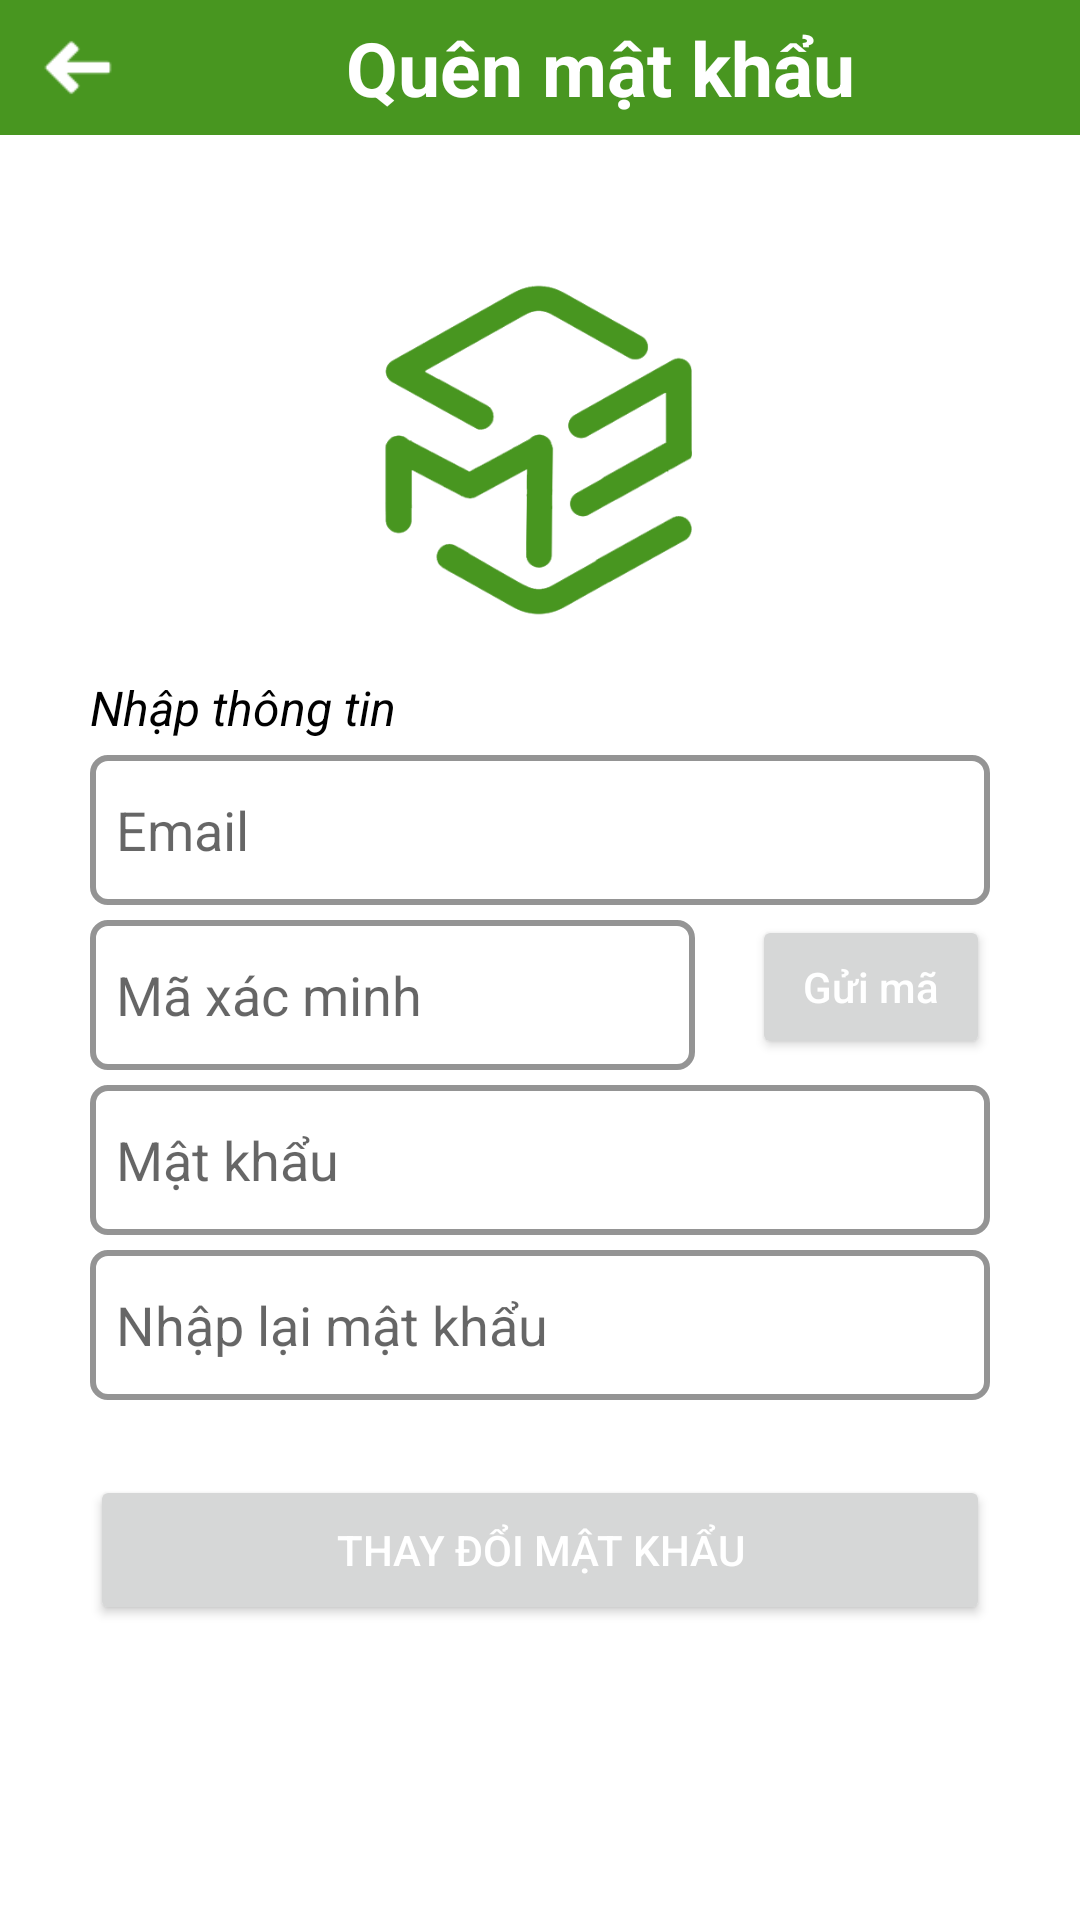

Icons on this 1080 × 1920 Android screen, each with its box as (x1, y1, x2, y2):
back: (45, 41, 112, 94)
